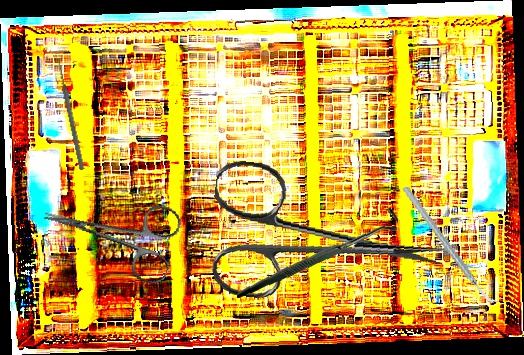Chopper: (401, 172, 500, 318)
Hook Surgical: (236, 199, 399, 307)
Iris Scissors: (202, 158, 452, 320), (34, 175, 185, 287)
Pusher: (55, 58, 86, 171)
